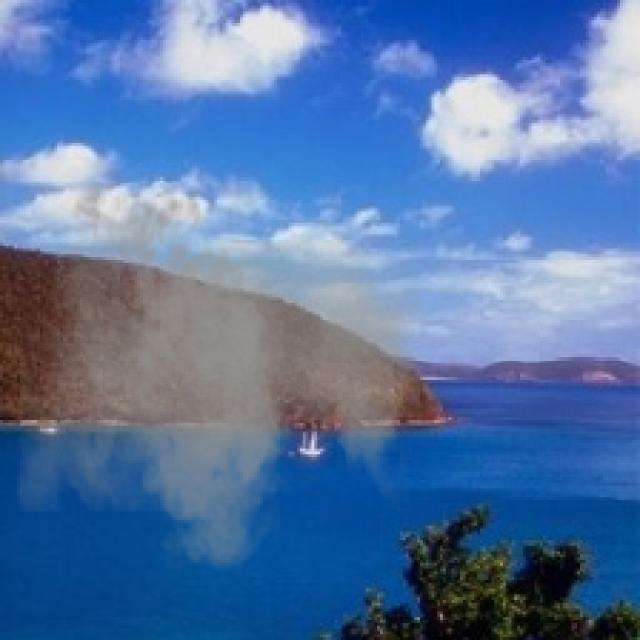Smoke: (17, 165, 426, 586)
